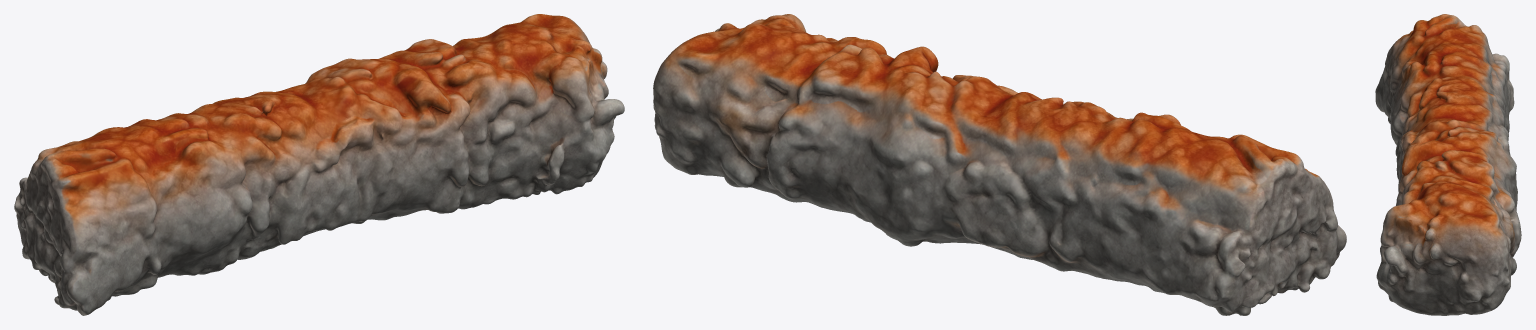
The model's file is Kanikama.fbx.
3 renders of one model, left to right at view 1: azimuth 30°, elevation 25°; view 2: azimuth 150°, elevation 25°; view 3: azimuth 270°, elevation 25°, orthographic. The views are drawn at different scales.
Visible parts, largest first — view 1: mesh_node; view 2: mesh_node; view 3: mesh_node.
Boxes of the visible parts, x1,y1,x2,y2 form: mesh_node: (14,14,624,315); mesh_node: (653,14,1346,315); mesh_node: (1375,14,1521,315).
Bounding box in the file's own units: 190 × 46.01 × 52.6.
1 material, 1 textured.
